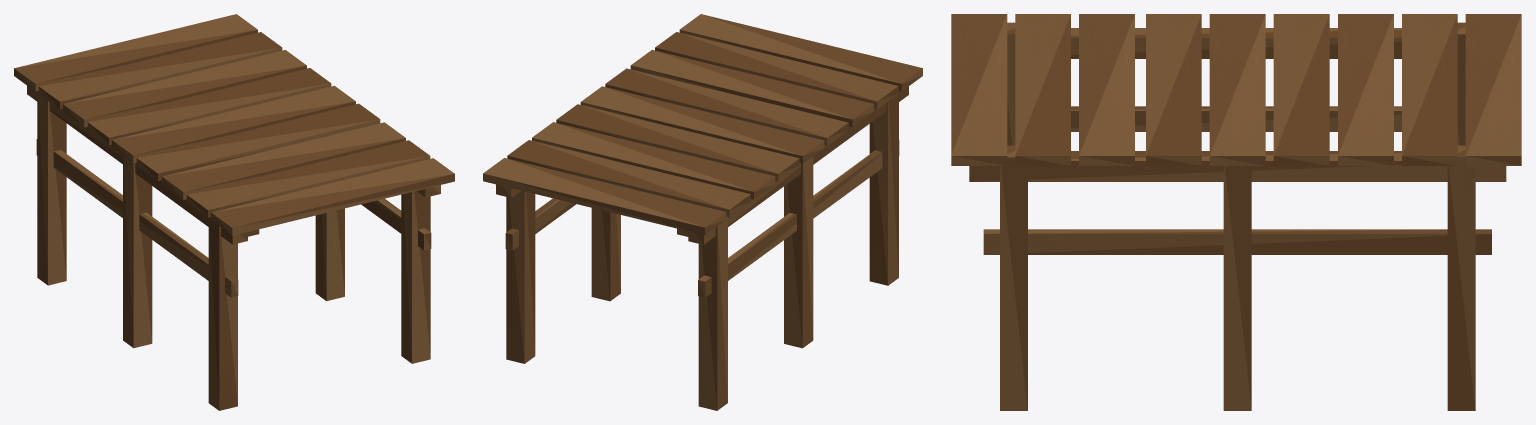
The model's file is Pier_1.fbx.
The picture shows the model from 3 angles, left to right: view 1: azimuth 30°, elevation 25°; view 2: azimuth 150°, elevation 25°; view 3: azimuth 270°, elevation 25°; orthographic projection. The views are drawn at different scales.
Parts seen in each view (by area): view 1: polySurface180; view 2: polySurface180; view 3: polySurface180.
Part boxes in pixels (x1=…): polySurface180: x1=14, y1=14, x2=454, y2=410; polySurface180: x1=483, y1=14, x2=922, y2=410; polySurface180: x1=951, y1=14, x2=1521, y2=410.
Size of the model in its own units: 300 by 255 by 510.
